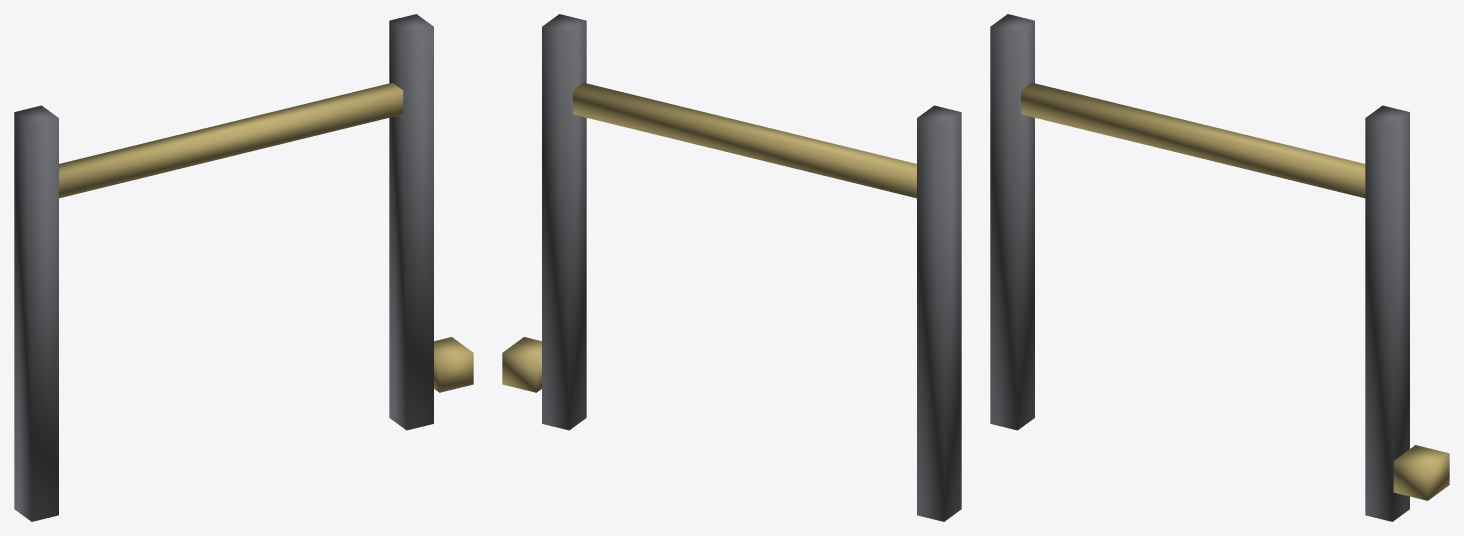
Rendered from queue_gate_05.glb.
3 views of the same model, side by side, from view 1: azimuth 30°, elevation 25°; view 2: azimuth 150°, elevation 25°; view 3: azimuth 330°, elevation 25° (orthographic).
Parts seen in each view (by area): view 1: world; view 2: world; view 3: world.
Boxes of the visible parts, <box> form: world: <box>14,14,473,521</box>; world: <box>502,14,961,521</box>; world: <box>990,14,1449,521</box>.
Size of the model in its own units: 1.14 by 0.98 by 0.097.
